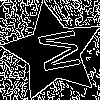M: (28, 27, 82, 76)
